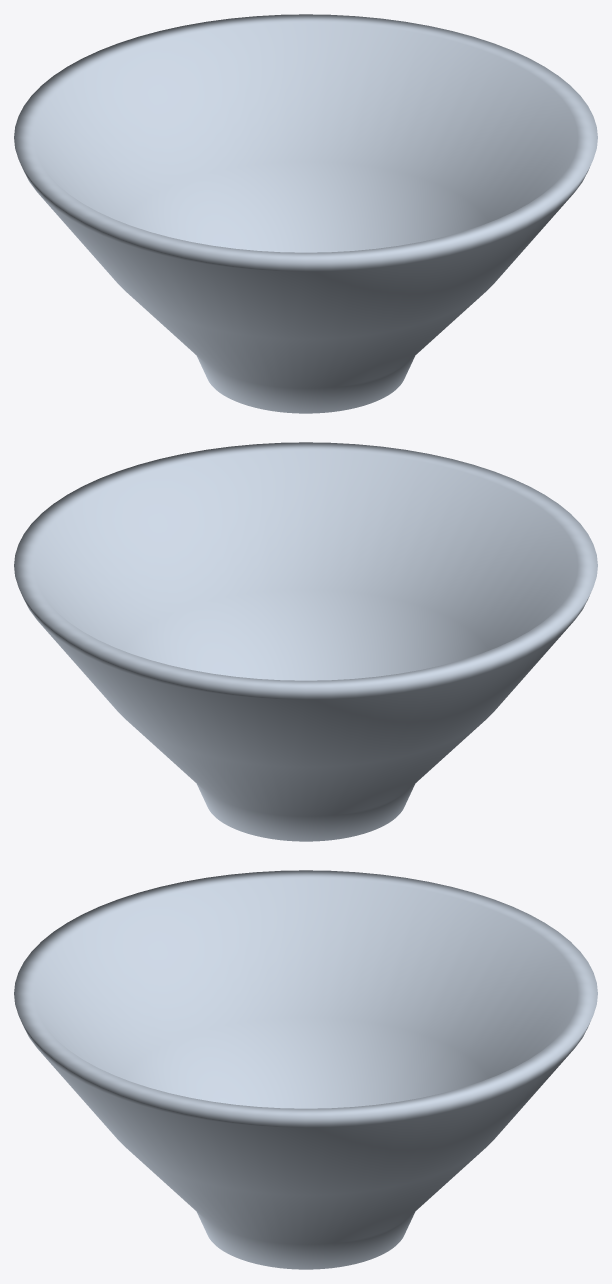
3 views of the same model, one above another, from view 1: azimuth 30°, elevation 25°; view 2: azimuth 150°, elevation 25°; view 3: azimuth 270°, elevation 25° (orthographic).
Visible parts, largest first — view 1: ramen-bowl-each; view 2: ramen-bowl-each; view 3: ramen-bowl-each.
Part boxes in pixels (x1,y1,x2,y2): ramen-bowl-each: (14, 14, 597, 413); ramen-bowl-each: (14, 442, 597, 841); ramen-bowl-each: (14, 870, 597, 1269).
Bounding box in the file's own units: 0.204 × 0.09 × 0.204.
